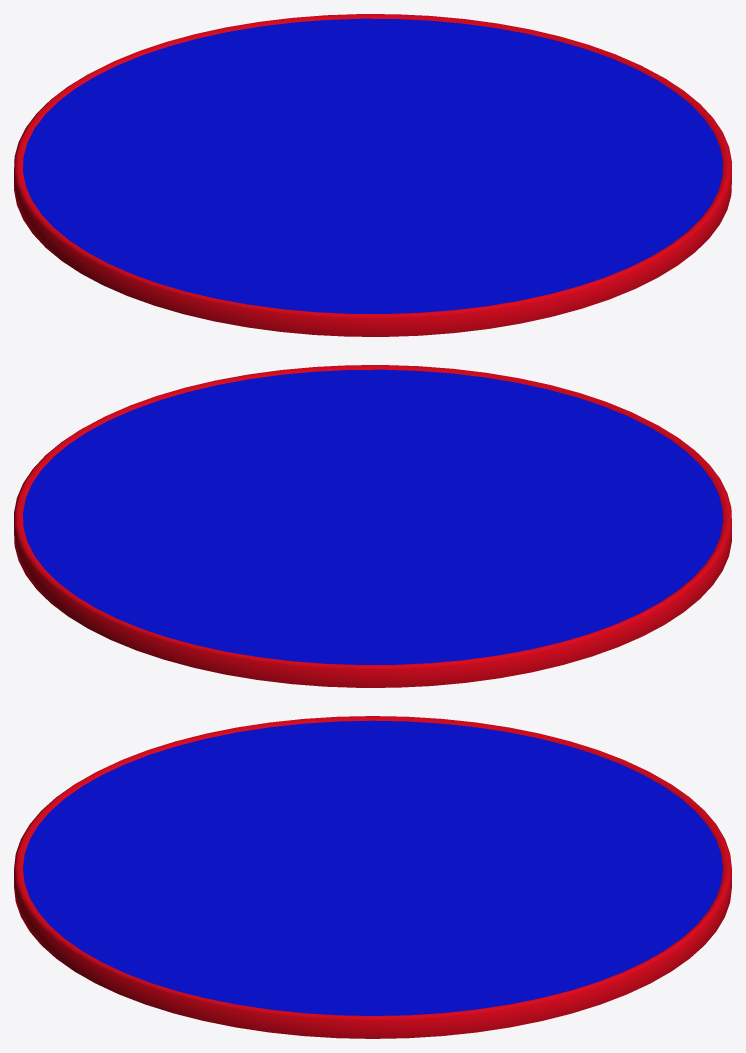
3 views of the same model, one above another, from view 1: azimuth 30°, elevation 25°; view 2: azimuth 150°, elevation 25°; view 3: azimuth 270°, elevation 25° (orthographic).
Parts seen in each view (by area): view 1: base_low; view 2: base_low; view 3: base_low.
Boxes of the visible parts, x1,y1,x2,y2 form: base_low: (14,14,731,336); base_low: (14,365,731,687); base_low: (14,716,731,1038).
Bounding box in the file's own units: 701 × 22.85 × 701.
